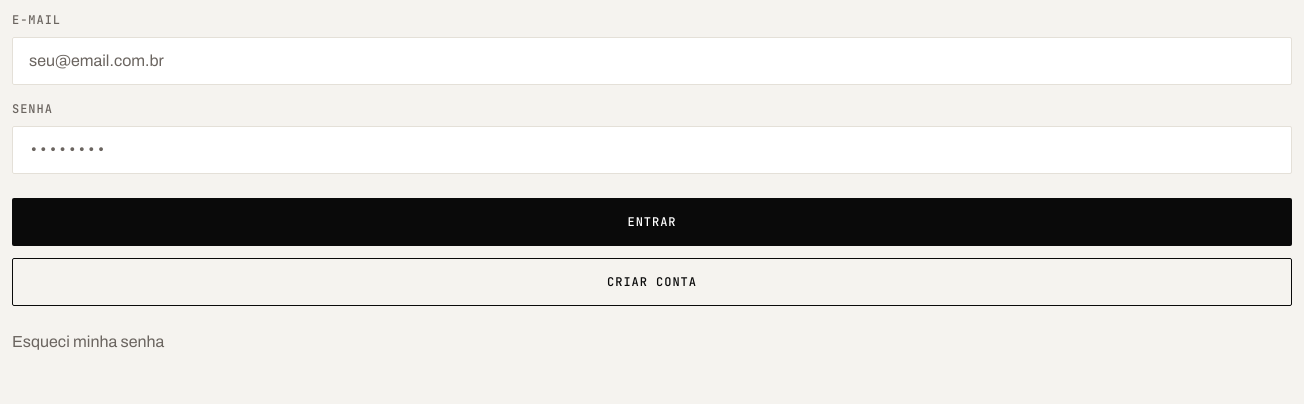
SignInForm › displays error message on authentication failure
In the field labelled "E-mail": (652, 61) x1=12 y1=37 x2=1292 y2=85, type "cliente@exemplo.com.br"
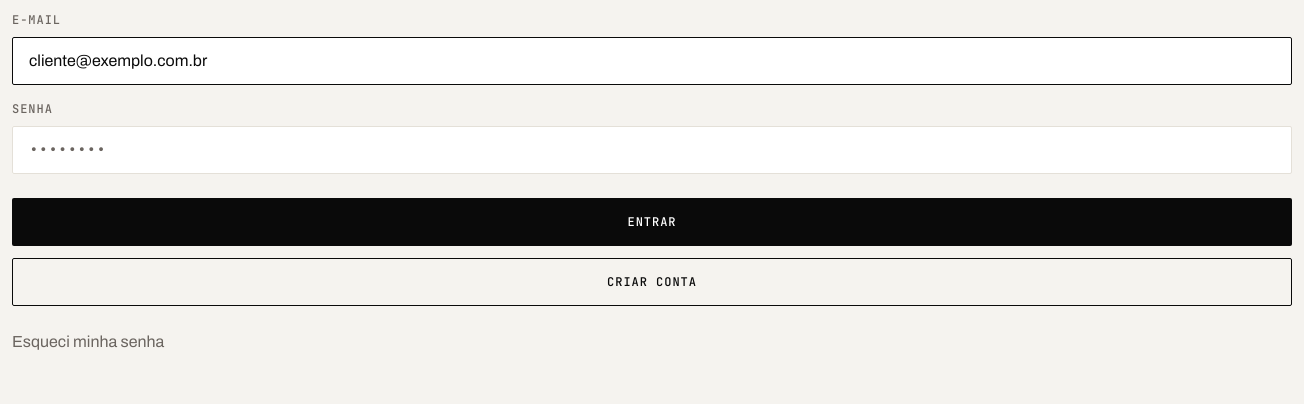
In the password field labelled "Senha": (652, 150) x1=12 y1=126 x2=1292 y2=174, type "errada"
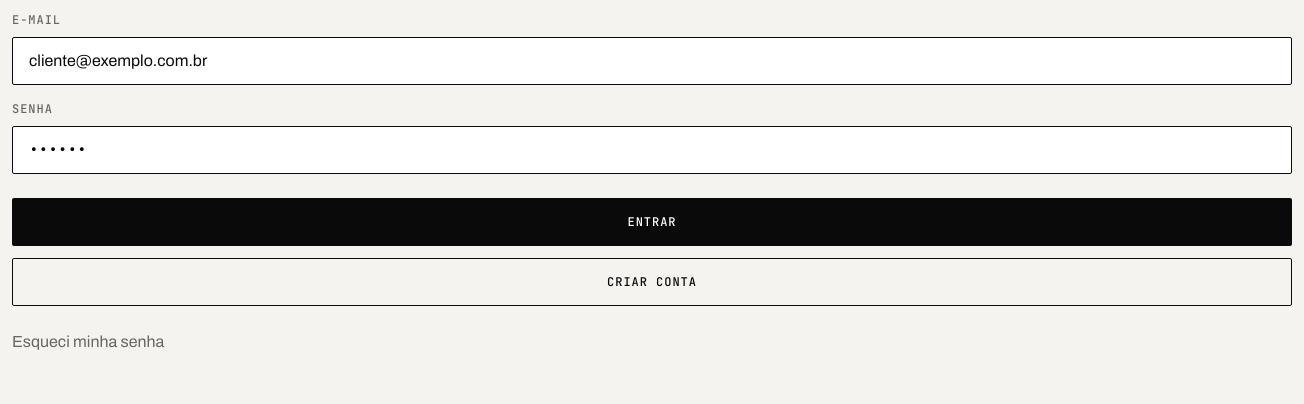
Click the button "Entrar": (652, 222) x1=12 y1=198 x2=1292 y2=246
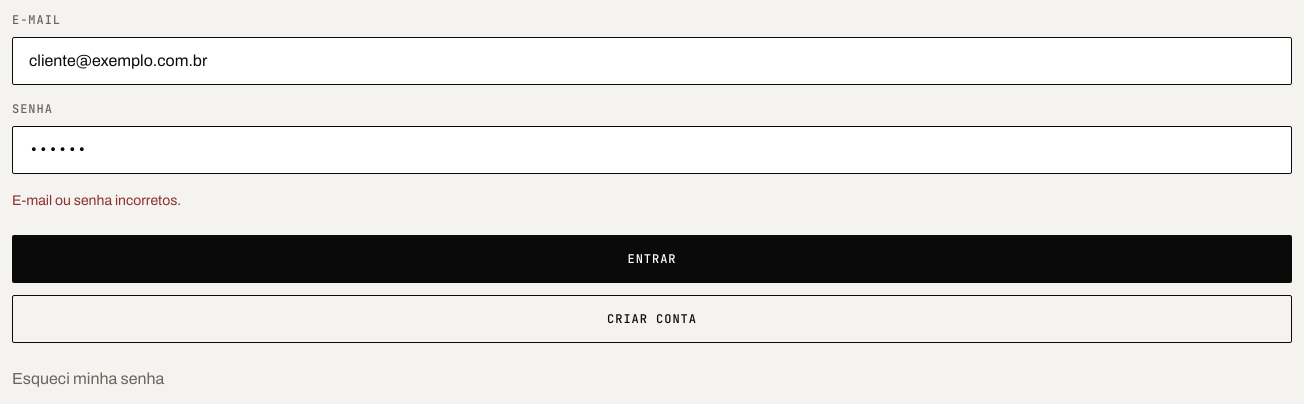
Now the message reads "E-mail ou senha incorretos.", box x1=12 y1=193 x2=181 y2=208
